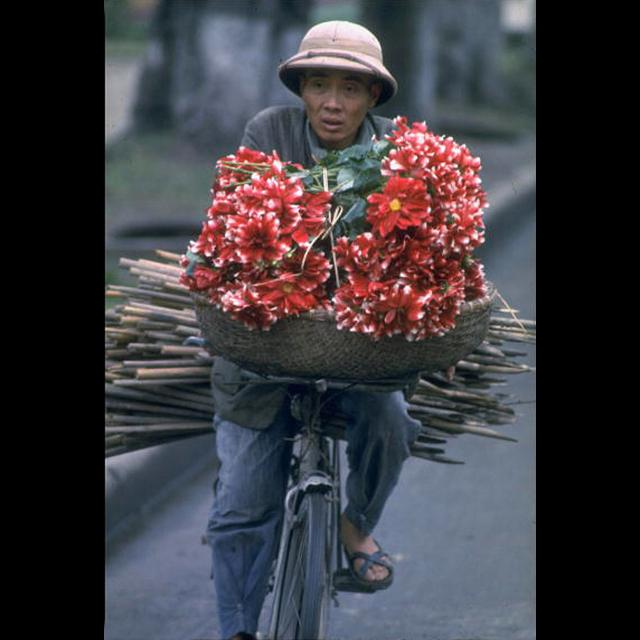Flower: (177, 115, 487, 335), (232, 218, 290, 262)
